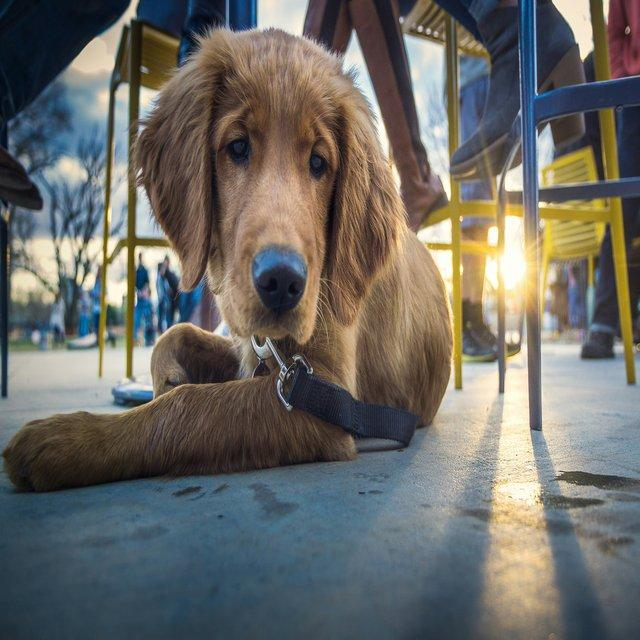retriever: (1, 23, 454, 493)
